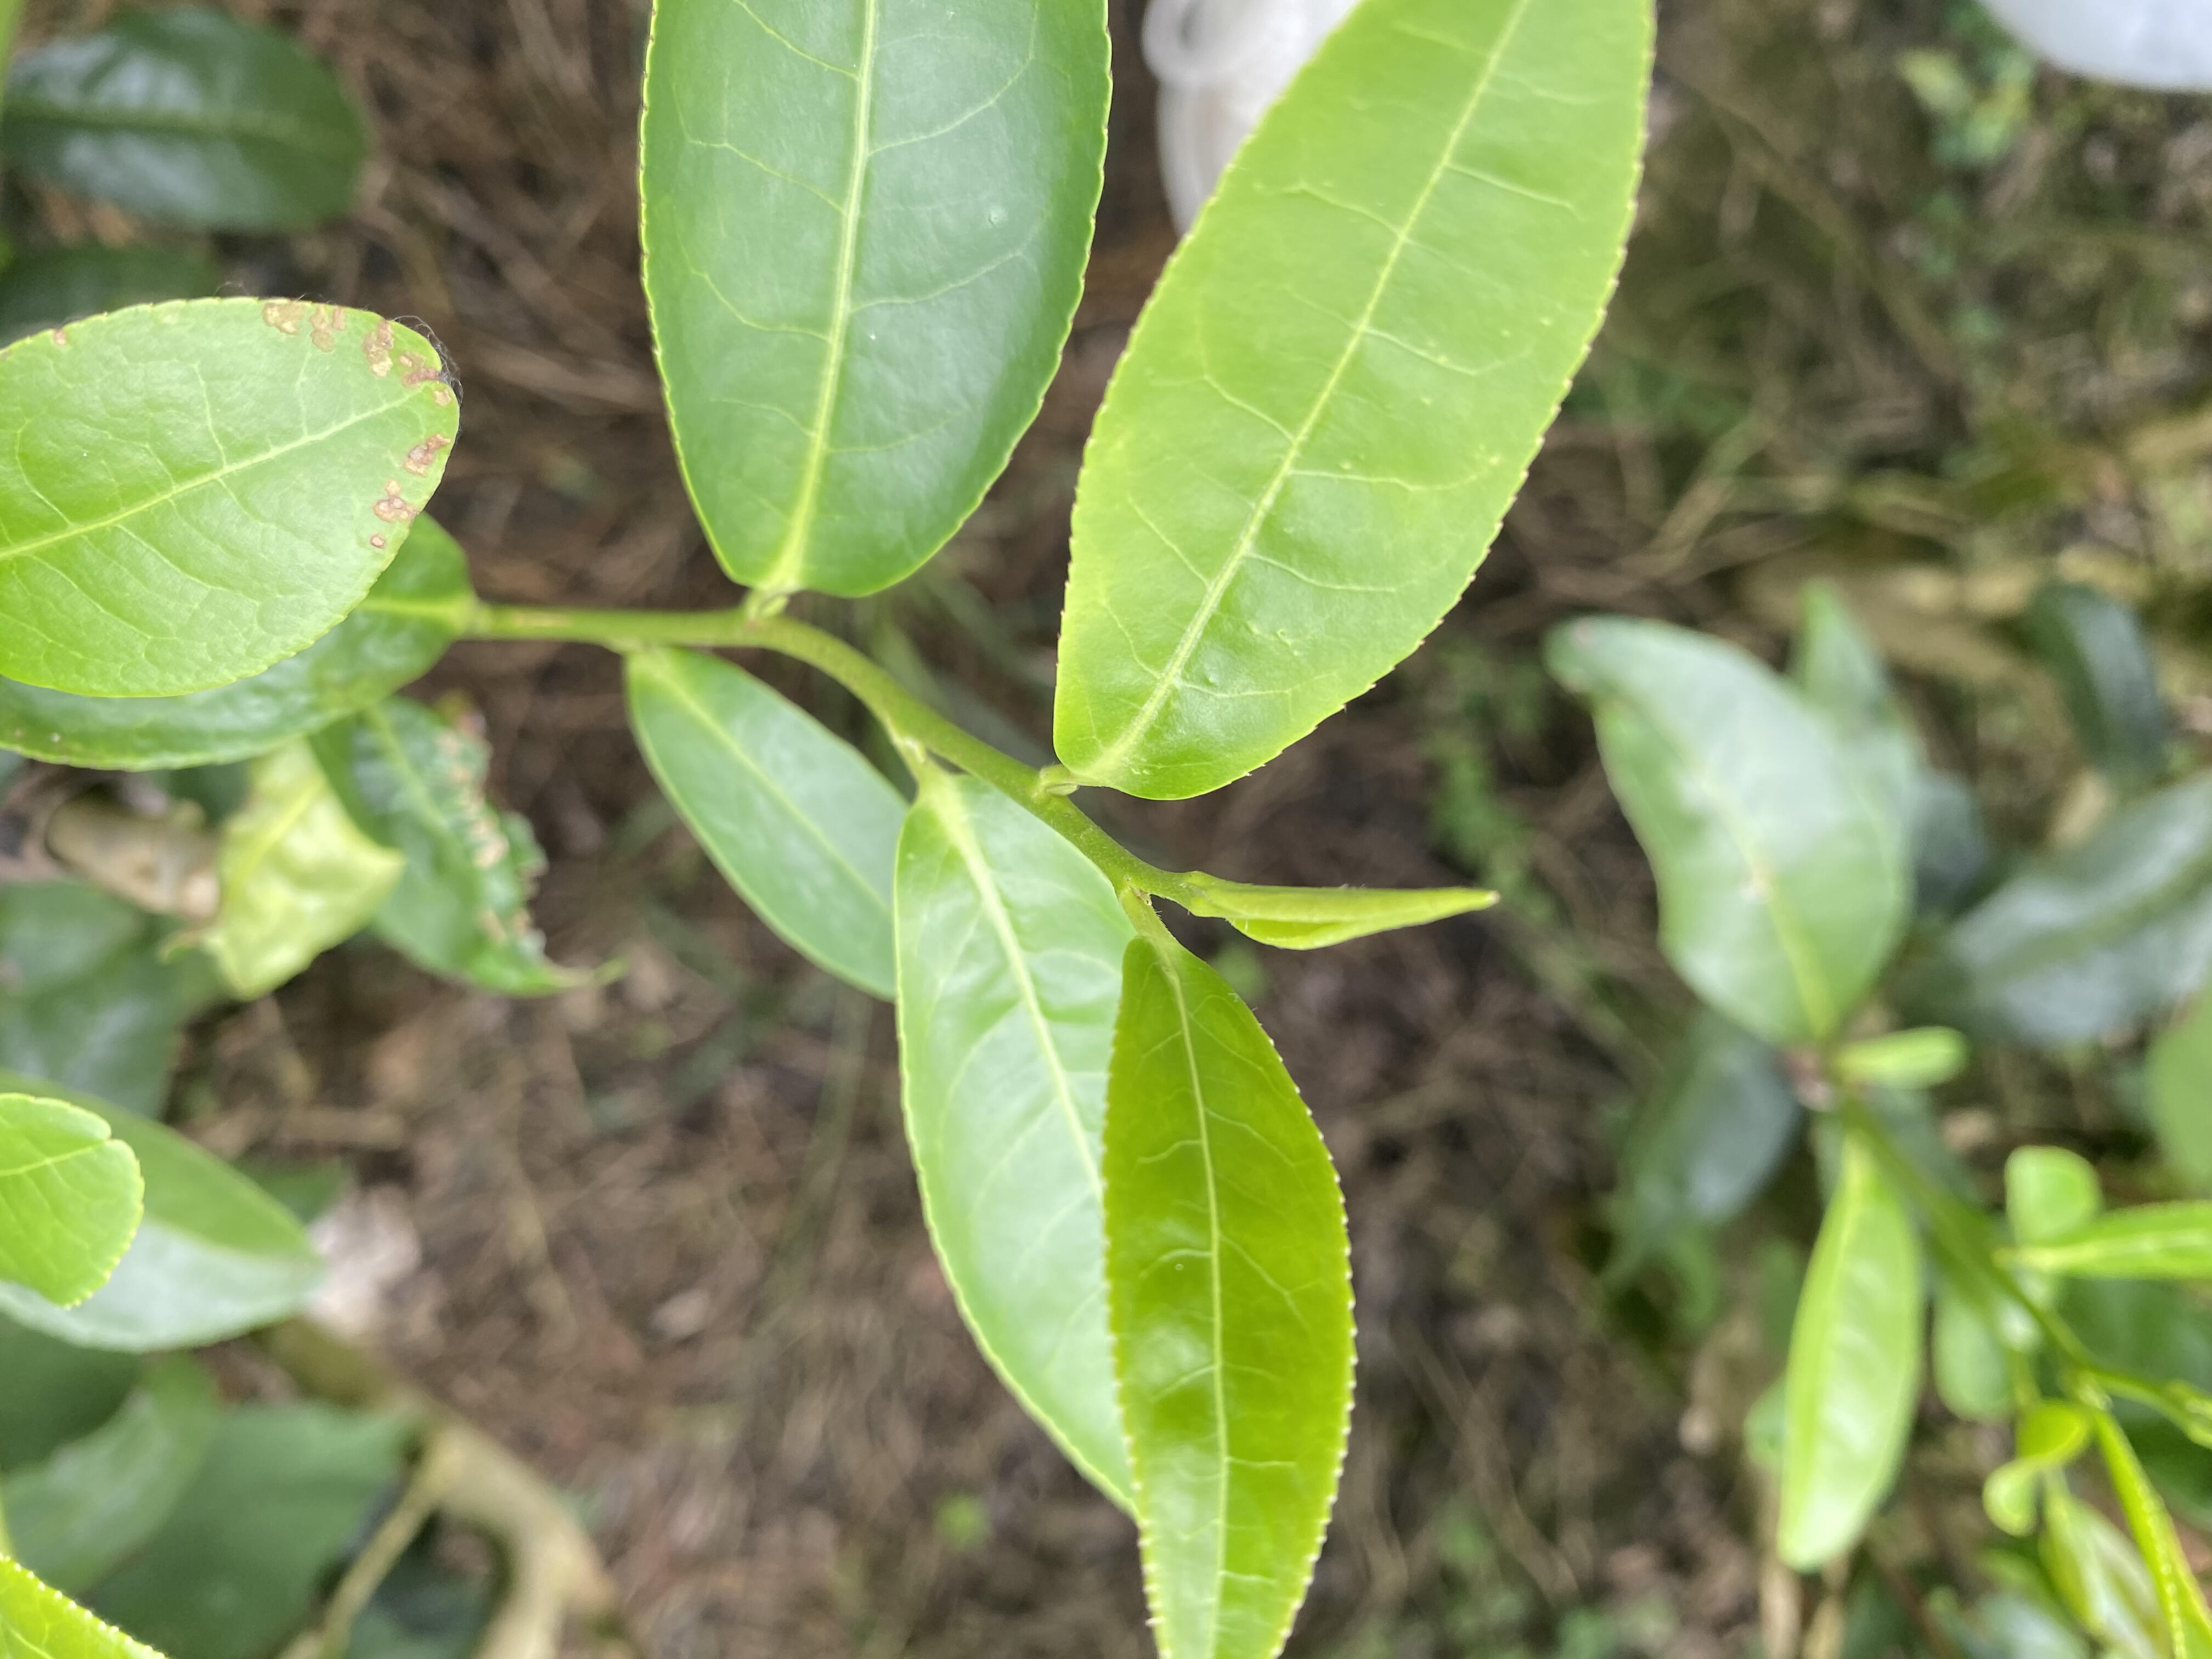healthy: (1052, 3, 1660, 805), (632, 2, 1116, 601), (1099, 934, 1362, 1657), (888, 775, 1141, 1506)
tanju_high: (2, 295, 462, 704)
